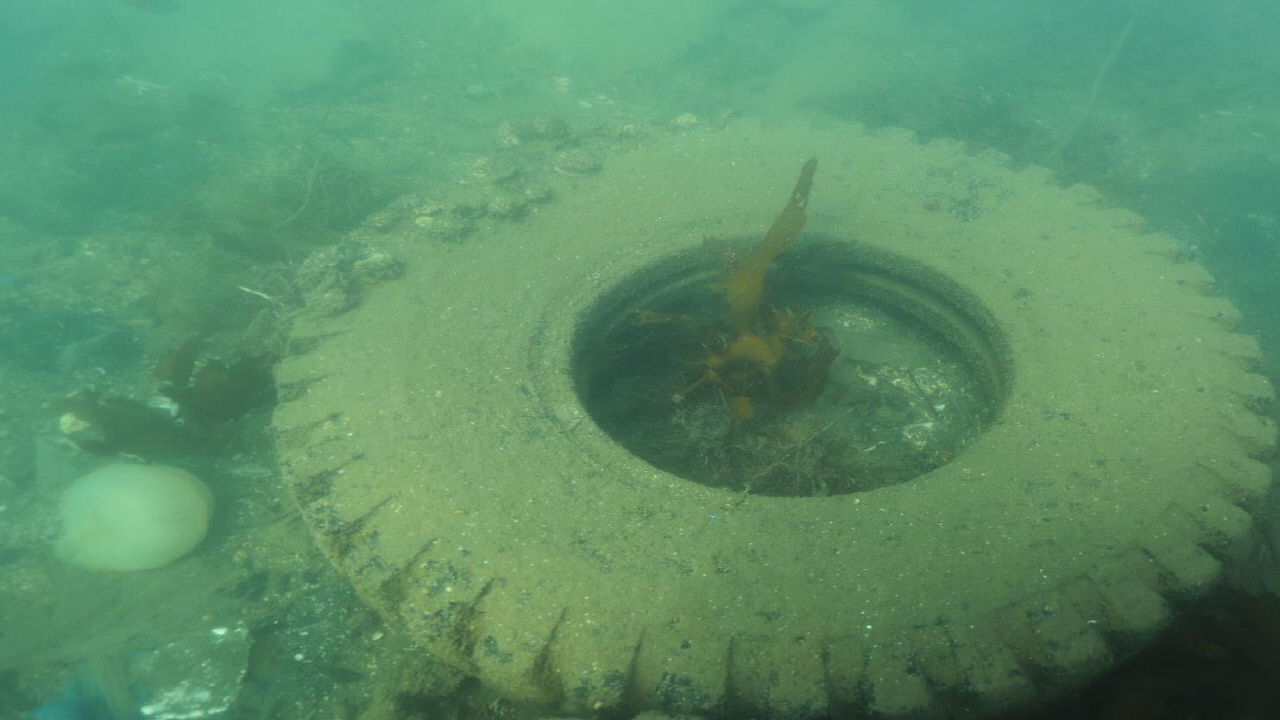tire: (272, 109, 1277, 720)
